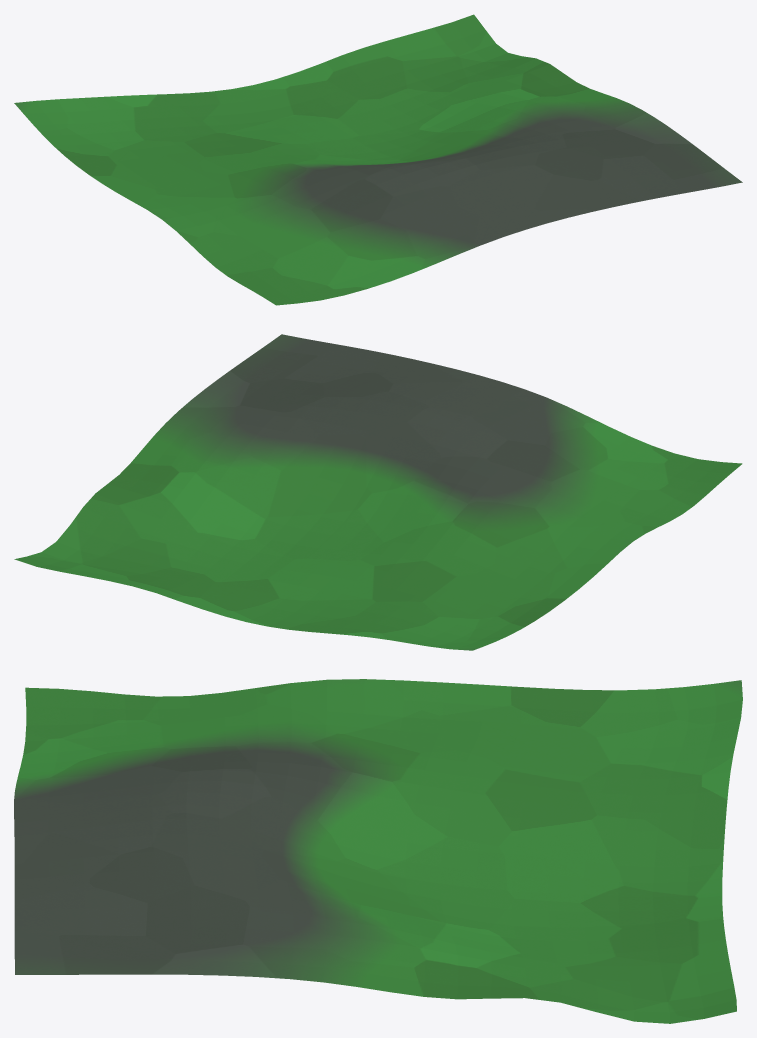
3 renders of one model, top to bottom at view 1: azimuth 30°, elevation 25°; view 2: azimuth 150°, elevation 25°; view 3: azimuth 270°, elevation 25°, orthographic. The views are drawn at different scales.
Visible parts, largest first — view 1: Plane_4; view 2: Plane_4; view 3: Plane_4.
Part boxes in pixels (x1,y1,x2,y2): Plane_4: (14, 14, 742, 305); Plane_4: (14, 334, 742, 650); Plane_4: (14, 679, 742, 1023).
Bounding box in the file's own units: 14.41 × 1.91 × 14.36.
Materials: 1 (1 with a texture image).
